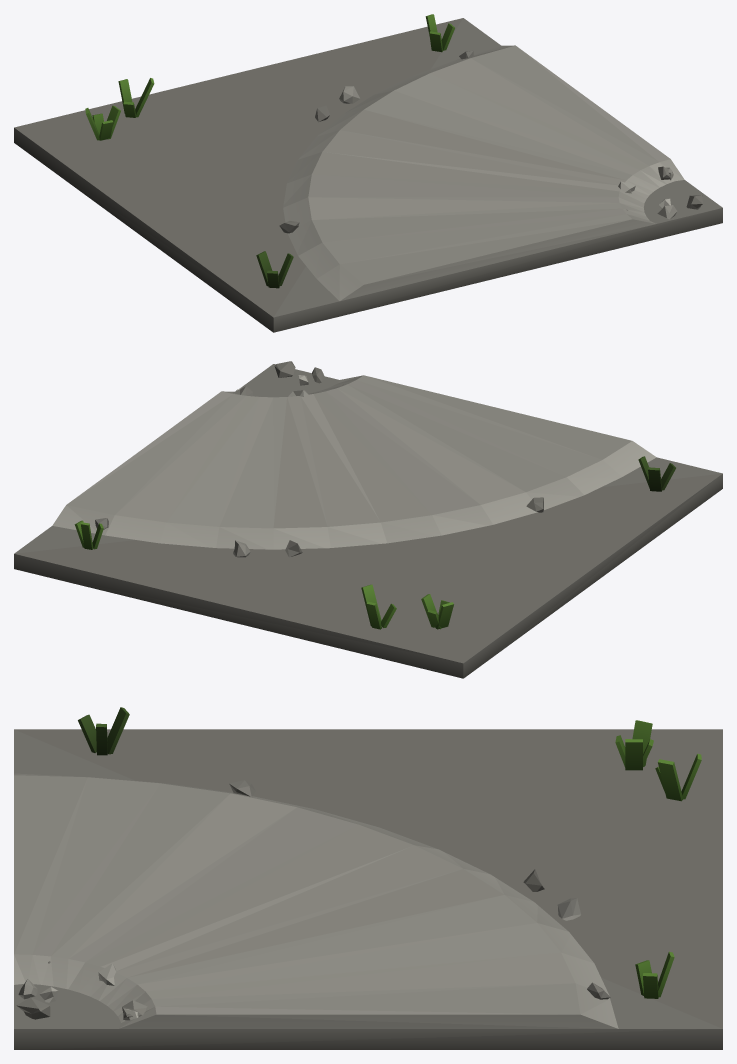
The model's file is ballast-curve-tile.glb.
3 views of the same model, one above another, from view 1: azimuth 30°, elevation 25°; view 2: azimuth 150°, elevation 25°; view 3: azimuth 270°, elevation 25° (orthographic). The views are drawn at different scales.
Visible parts, largest first — view 1: ballast_curve_tile; view 2: ballast_curve_tile; view 3: ballast_curve_tile.
Boxes of the visible parts, box(x1,y1,x2,y2) form: ballast_curve_tile: box(14, 14, 722, 332); ballast_curve_tile: box(14, 361, 722, 678); ballast_curve_tile: box(14, 707, 722, 1049).
Bounding box in the file's own units: 4 × 0.4192 × 4.
